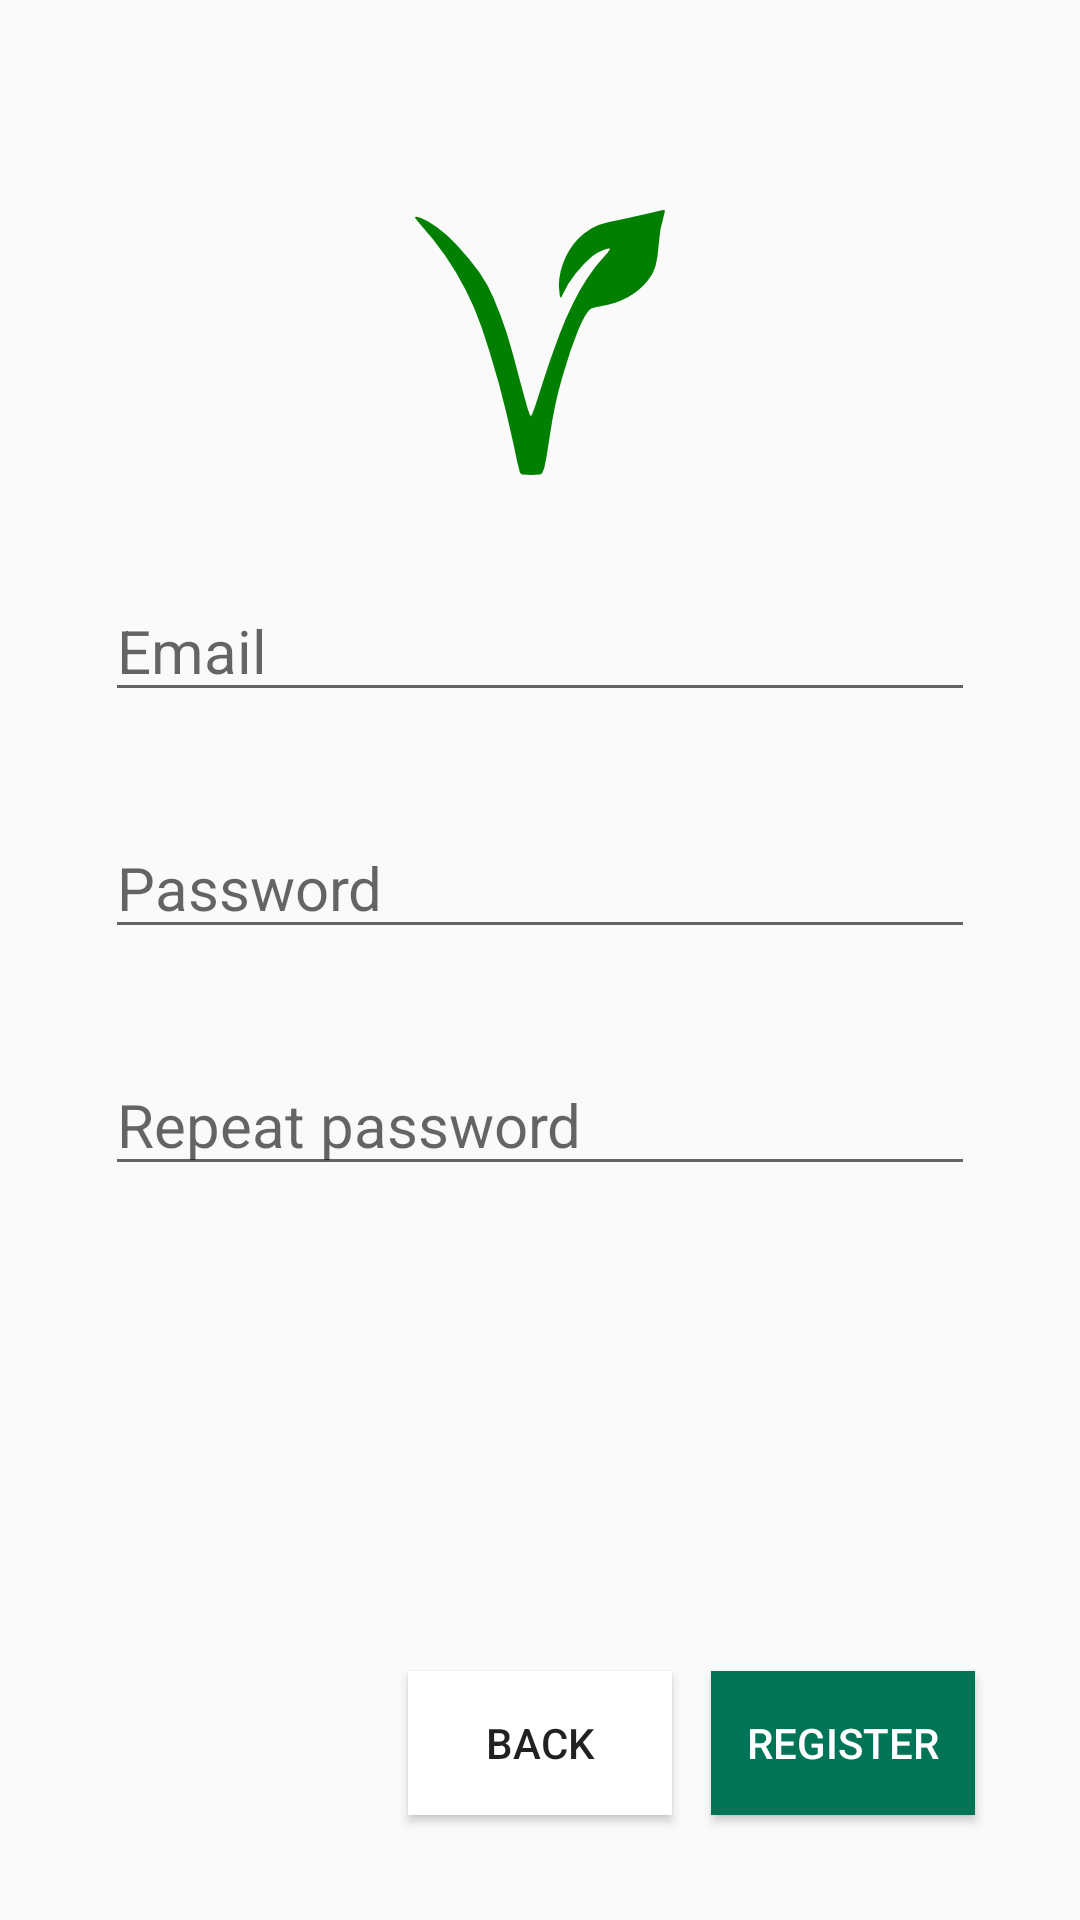

Named icons in this screenshot (1080w x 1920h) and their centers, point (x, y):
veg: point (540, 342)
